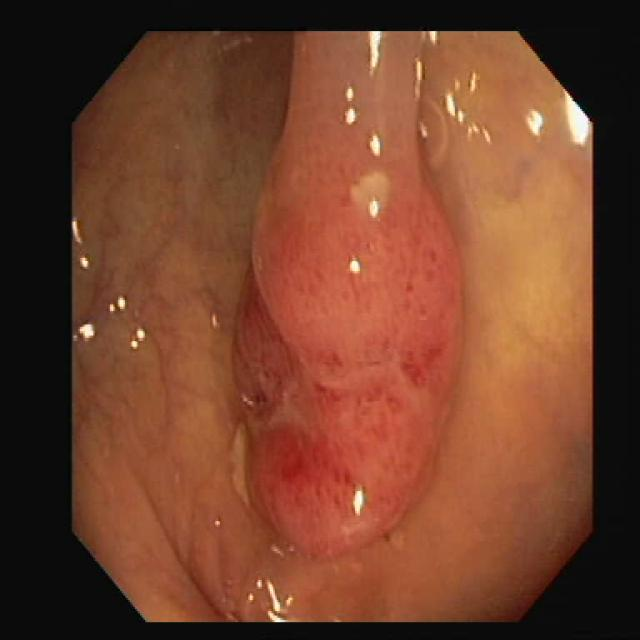tumor: (235, 33, 527, 580)
